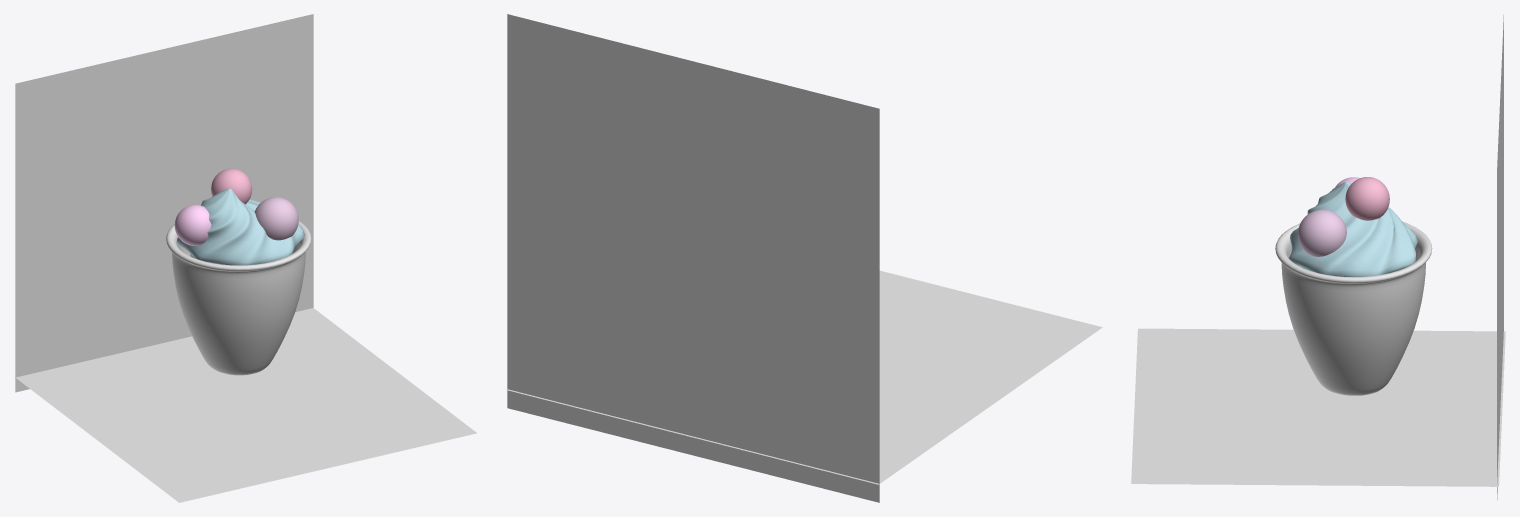
File: bubbletea_f.fbx
3 renders of one model, left to right at view 1: azimuth 30°, elevation 25°; view 2: azimuth 150°, elevation 25°; view 3: azimuth 270°, elevation 25°, orthographic. The views are drawn at different scales.
Parts seen in each view (by area): view 1: Plane.001, Plane, glass, whip cream; view 2: Plane.001, Plane; view 3: Plane, glass, whip cream, Plane.001.
Boxes of the visible parts, <box> form: Plane.001: <box>15,14,313,392</box>; Plane: <box>15,308,476,502</box>; glass: <box>166,221,311,375</box>; whip cream: <box>174,168,304,265</box>; Plane.001: <box>507,14,879,502</box>; Plane: <box>506,270,1102,484</box>; Plane: <box>1131,328,1505,486</box>; glass: <box>1275,221,1432,395</box>; whip cream: <box>1288,177,1417,276</box>; Plane.001: <box>1497,15,1503,500</box>.
Size of the model in its own units: 754 by 741 by 754.
